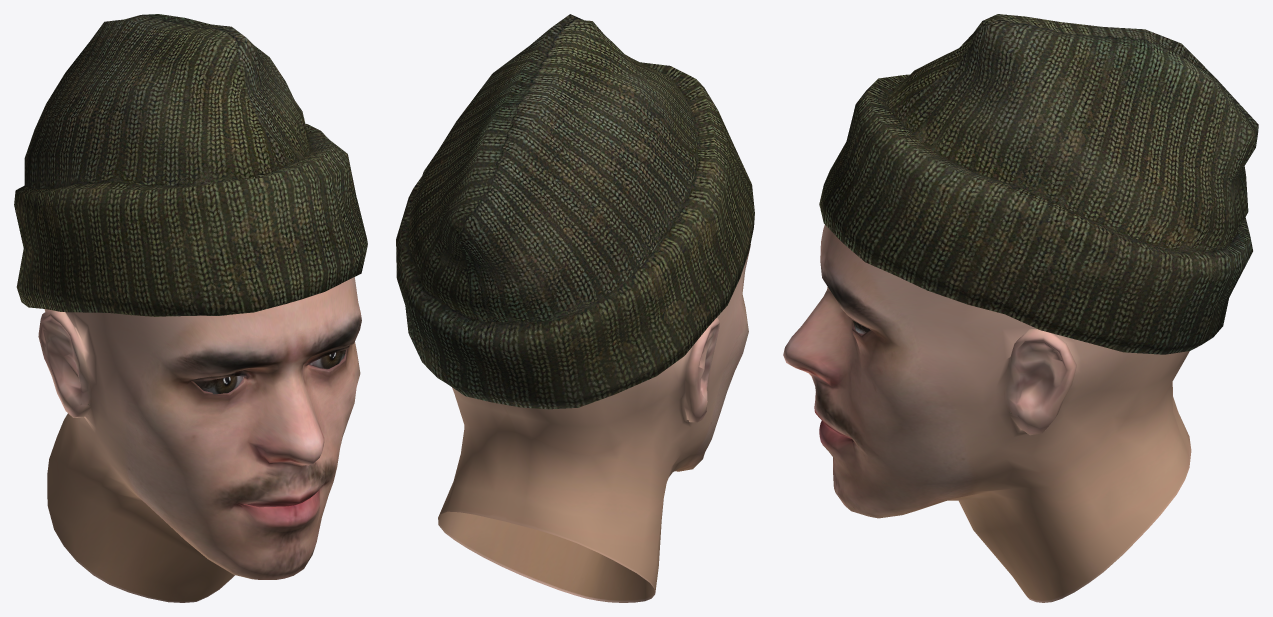
File: head2.glb
3 views of the same model, side by side, from view 1: azimuth 30°, elevation 25°; view 2: azimuth 150°, elevation 25°; view 3: azimuth 270°, elevation 25° (orthographic). The views are drawn at different scales.
Parts seen in each view (by area): view 1: se4_british_commando_hat_0_Material #229_0, skin_med, Sphere001; view 2: se4_british_commando_hat_0_Material #229_0, skin_med; view 3: se4_british_commando_hat_0_Material #229_0, skin_med.
Boxes of the visible parts, bbox=[...] form: se4_british_commando_hat_0_Material #229_0: bbox=[14, 14, 367, 316]; skin_med: bbox=[38, 277, 361, 602]; Sphere001: bbox=[193, 350, 345, 394]; se4_british_commando_hat_0_Material #229_0: bbox=[396, 14, 754, 409]; skin_med: bbox=[438, 244, 750, 602]; se4_british_commando_hat_0_Material #229_0: bbox=[819, 14, 1258, 354]; skin_med: bbox=[783, 225, 1191, 602].
Bounding box in the file's own units: 0.2392 × 0.4532 × 0.3352.
6 materials, 6 textured.
